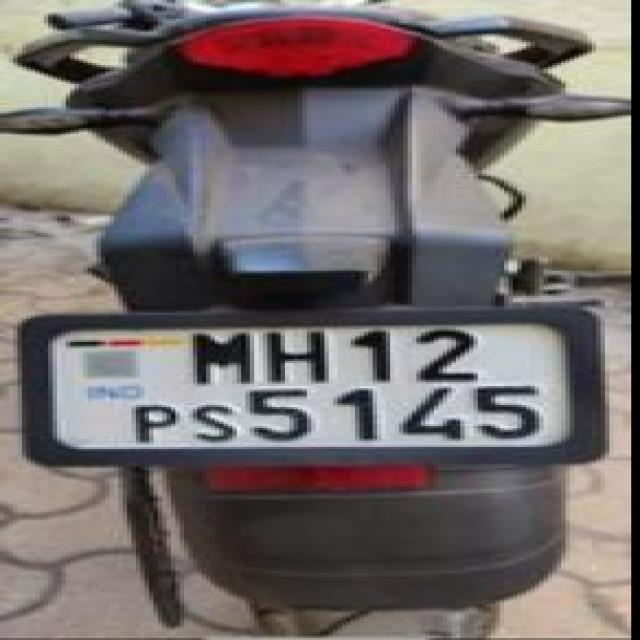license_plate: (17, 302, 605, 468)
